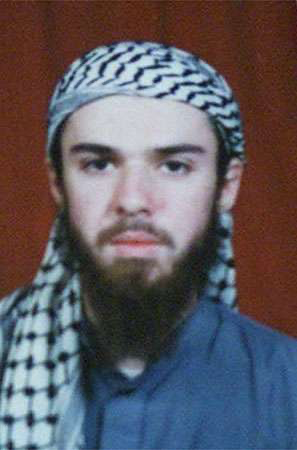Face: (53, 84, 220, 296)
